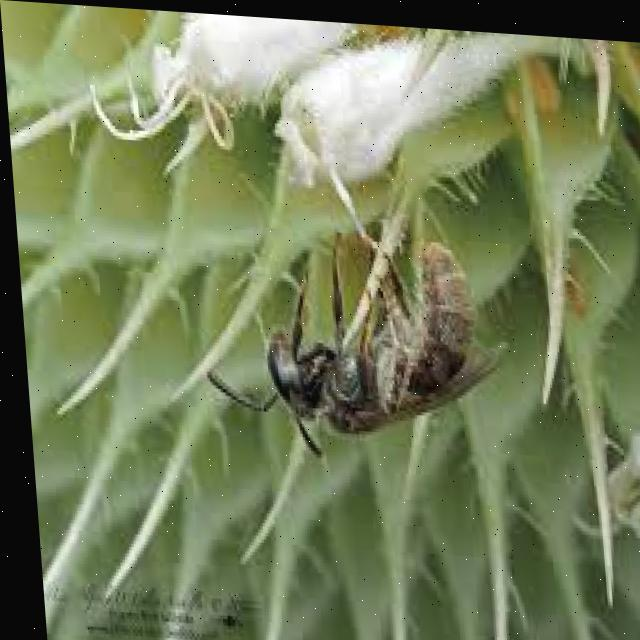Lasioglossum: (196, 219, 518, 462)
